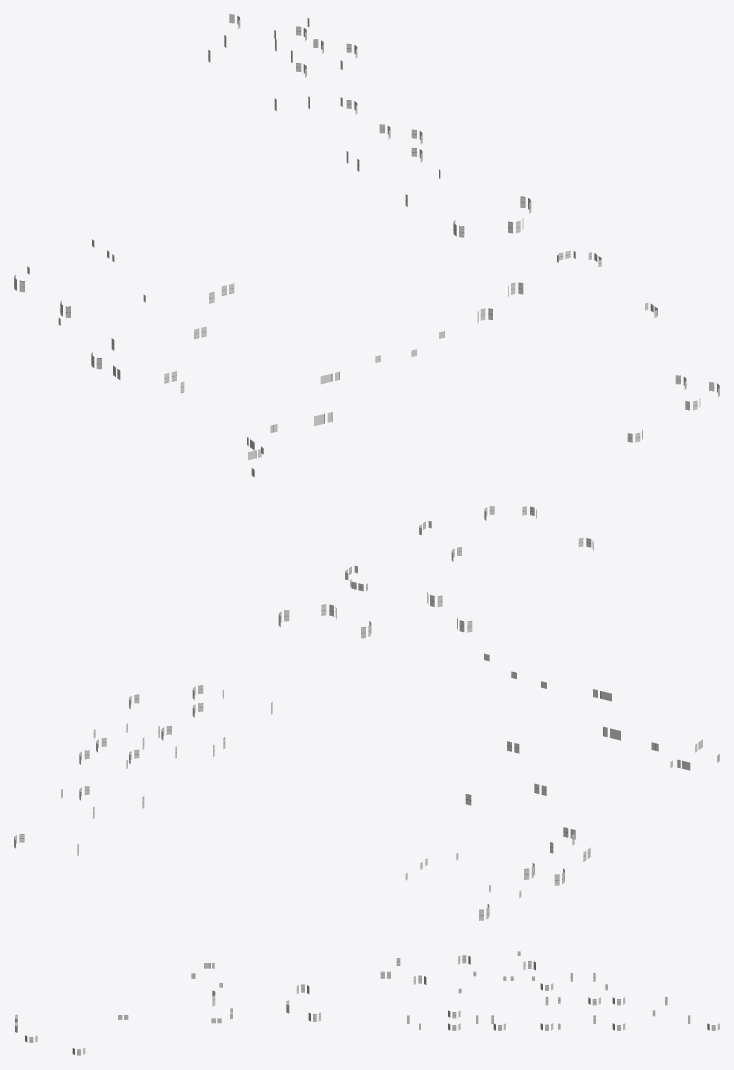
The model's file is nitelites_sfe14.obj.
3 renders of one model, top to bottom at view 1: azimuth 30°, elevation 25°; view 2: azimuth 150°, elevation 25°; view 3: azimuth 270°, elevation 25°, orthographic. The views are drawn at different scales.
Parts seen in each view (by area): view 1: nitelites_sfe14; view 2: nitelites_sfe14; view 3: nitelites_sfe14.
Part boxes in pixels (x1,y1,x2,y2): nitelites_sfe14: (14,14,719,477); nitelites_sfe14: (14,506,719,920); nitelites_sfe14: (15,951,719,1055).
Bounding box in the file's own units: 115 × 54.69 × 274.
Materials: 1 (1 with a texture image).
